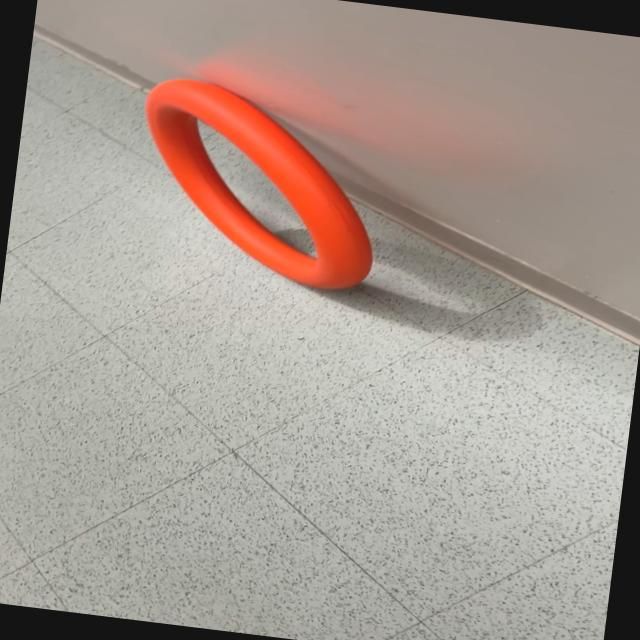note: (123, 71, 394, 296)
